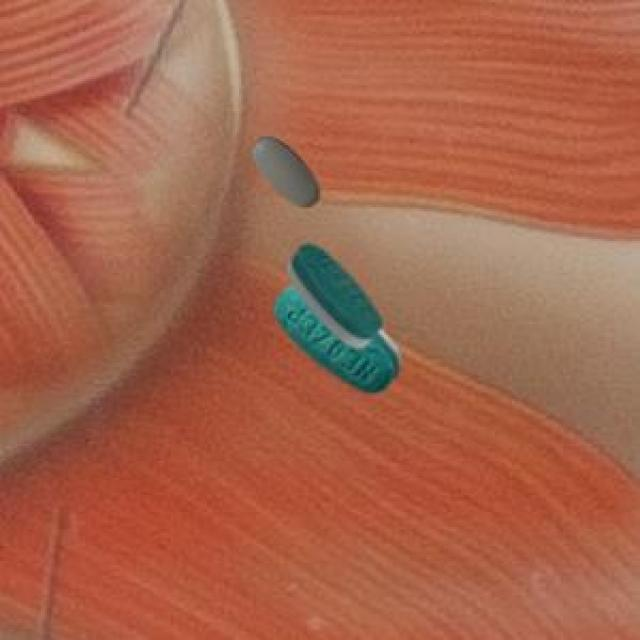Neozep: (268, 234, 411, 403), (242, 132, 330, 216)
